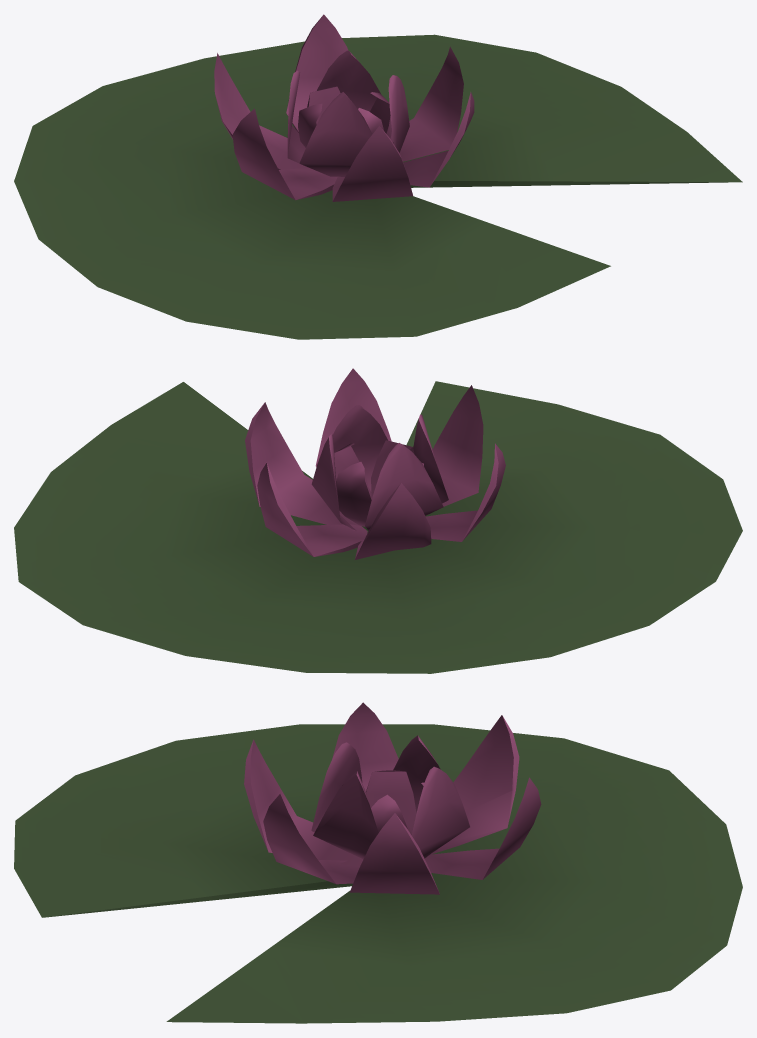
File: plant_lilypad_1.glb
3 renders of one model, top to bottom at view 1: azimuth 30°, elevation 25°; view 2: azimuth 150°, elevation 25°; view 3: azimuth 270°, elevation 25°, orthographic. The views are drawn at different scales.
Visible parts, largest first — view 1: plant_lilypad_1; view 2: plant_lilypad_1; view 3: plant_lilypad_1.
Part boxes in pixels (x1=…): plant_lilypad_1: x1=14, y1=14, x2=742, y2=339; plant_lilypad_1: x1=14, y1=368, x2=742, y2=673; plant_lilypad_1: x1=14, y1=702, x2=742, y2=1023.
Bounding box in the file's own units: 1.1 × 0.2029 × 1.09.
